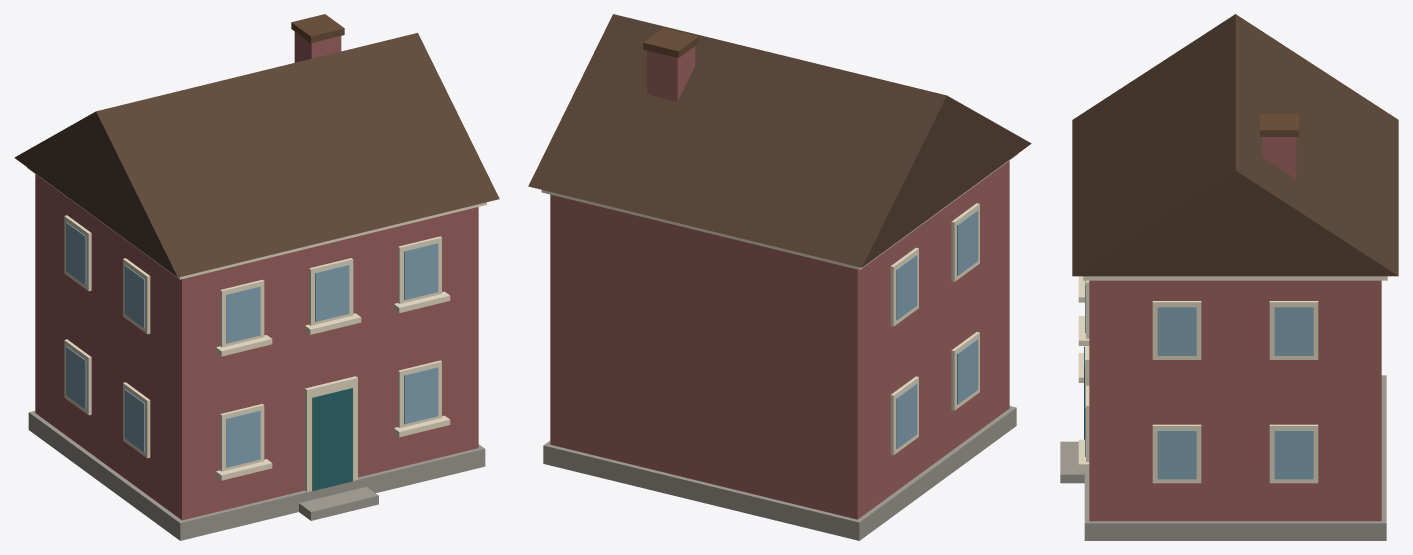
The model's file is house_a.glb.
3 renders of one model, left to right at view 1: azimuth 30°, elevation 25°; view 2: azimuth 150°, elevation 25°; view 3: azimuth 270°, elevation 25°, orthographic. The views are drawn at different scales.
Visible parts, largest first — view 1: house_a; view 2: house_a; view 3: house_a.
Boxes of the visible parts, x1,y1,x2,y2 form: house_a: (14,14,499,540); house_a: (528,14,1031,540); house_a: (1060,14,1398,540).
Size of the model in its own units: 7.6 by 8.73 by 6.95.
